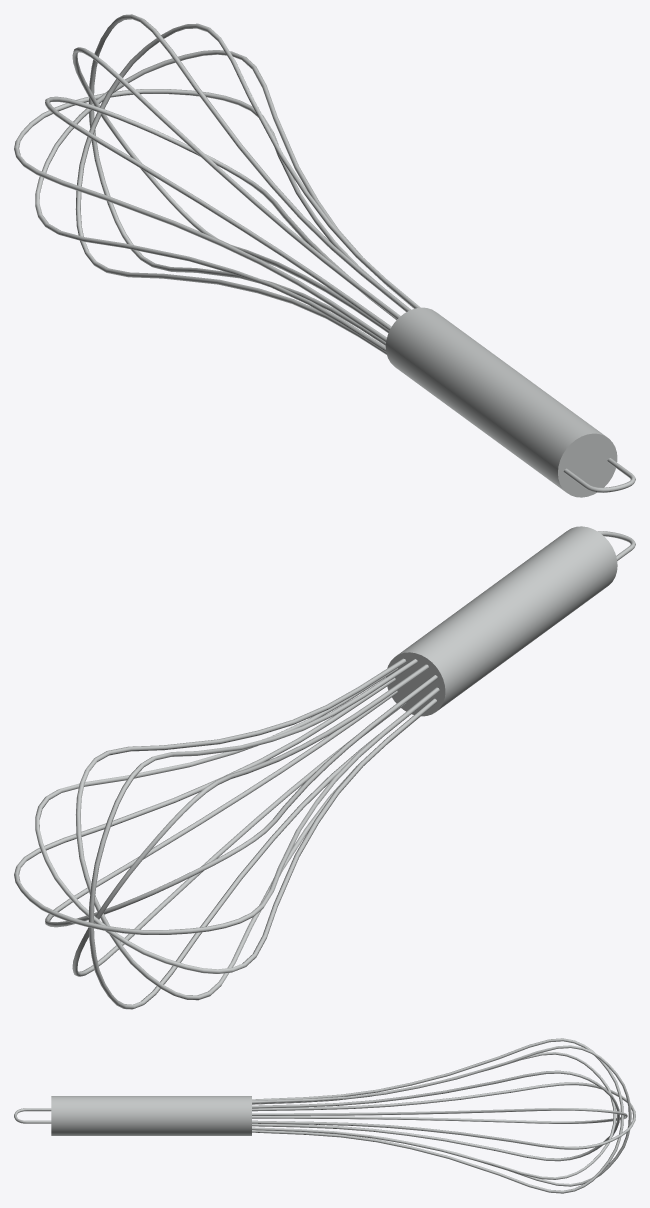
Rendered from utensil_rack_room_main_model_0.obj.
3 renders of one model, top to bottom at view 1: azimuth 30°, elevation 25°; view 2: azimuth 150°, elevation 25°; view 3: azimuth 270°, elevation 25°, orthographic. The views are drawn at different scales.
Bounding box in the file's own units: 0.2095 × 0.2095 × 0.8358.
1 material, 1 textured.
